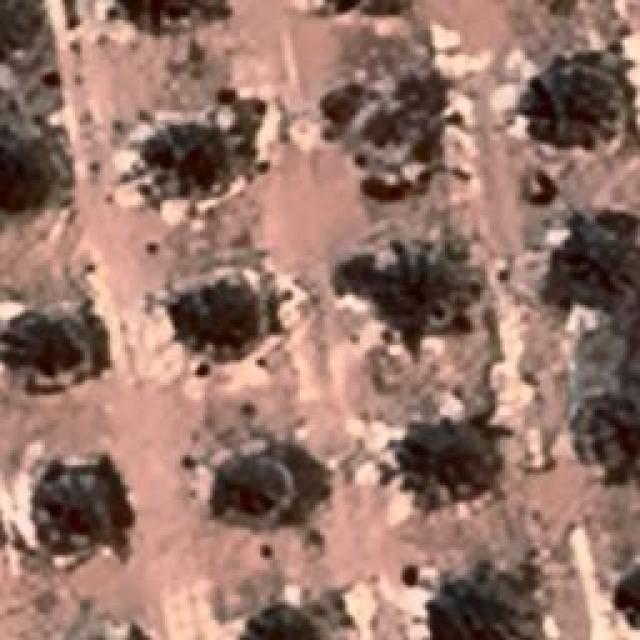PalmTree: (110, 50, 381, 128), (412, 570, 528, 640), (388, 418, 492, 492), (21, 292, 99, 386), (181, 274, 269, 356), (361, 254, 441, 322), (215, 434, 290, 502), (38, 458, 104, 534), (540, 61, 605, 134), (568, 222, 632, 296), (582, 414, 640, 488), (152, 125, 225, 180), (0, 141, 55, 211), (101, 17, 168, 50), (0, 0, 36, 58), (234, 607, 294, 640), (612, 562, 640, 632), (316, 0, 420, 17), (619, 564, 640, 628)
